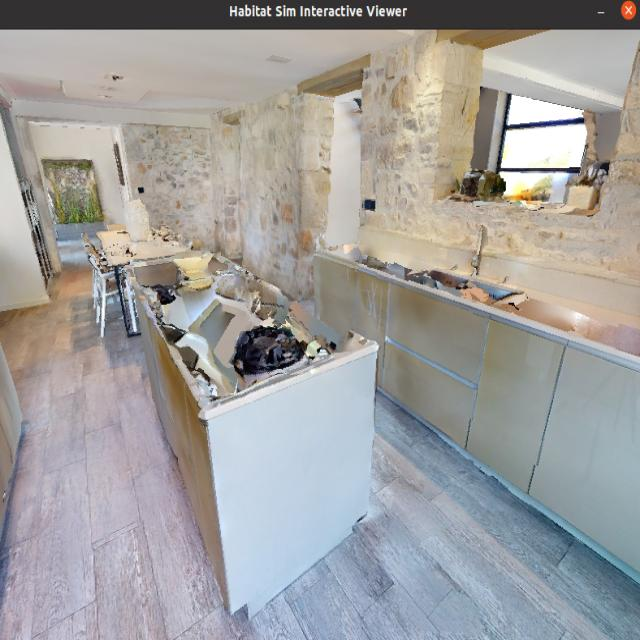door-frame: (23, 114, 138, 287), (301, 80, 377, 326)
